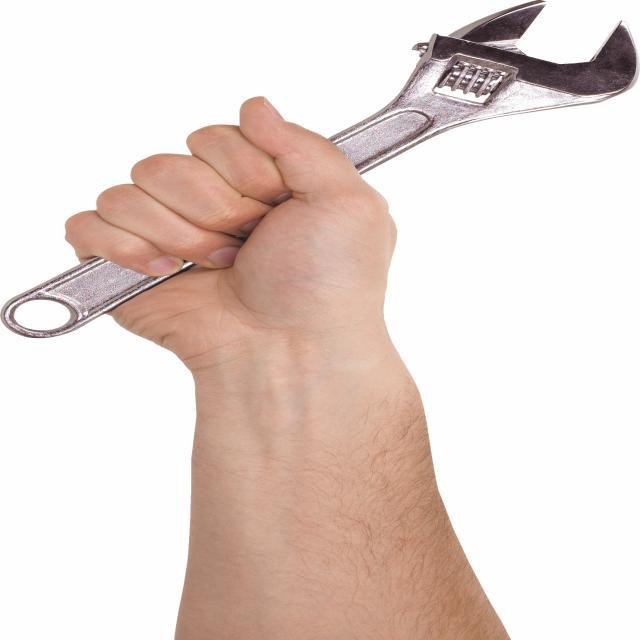wrench: (0, 0, 639, 340)
